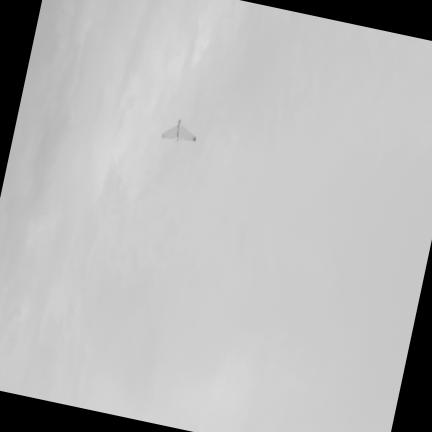Shahed: (161, 121, 194, 141)
